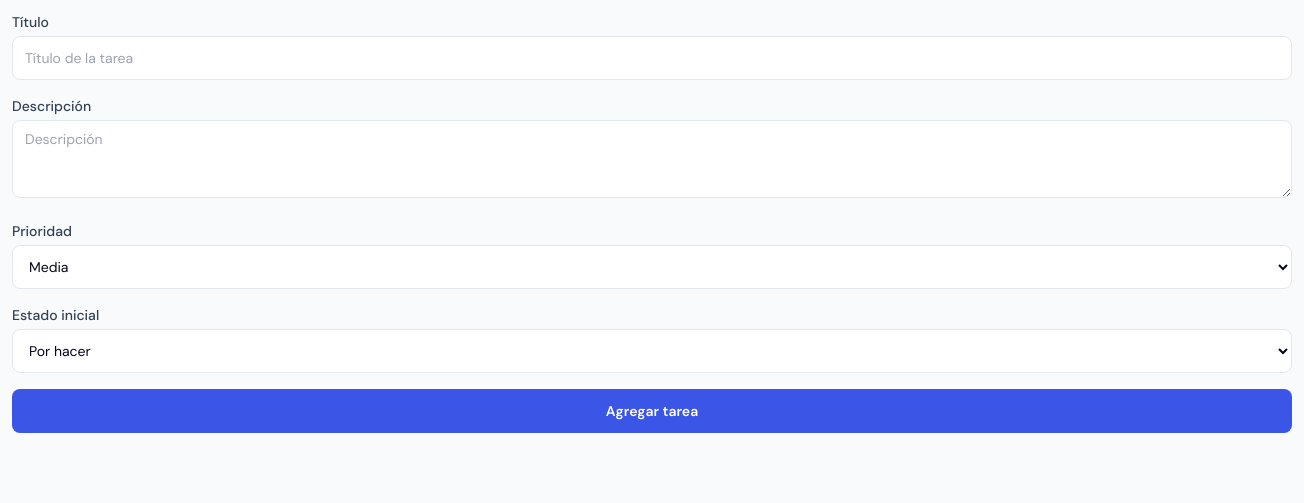
Test: TaskForm component › muestra error si se envía vacío
Step 1. Click the button "Agregar tarea" → x=652, y=411, box top-left (12, 389), bottom-right (1292, 433)
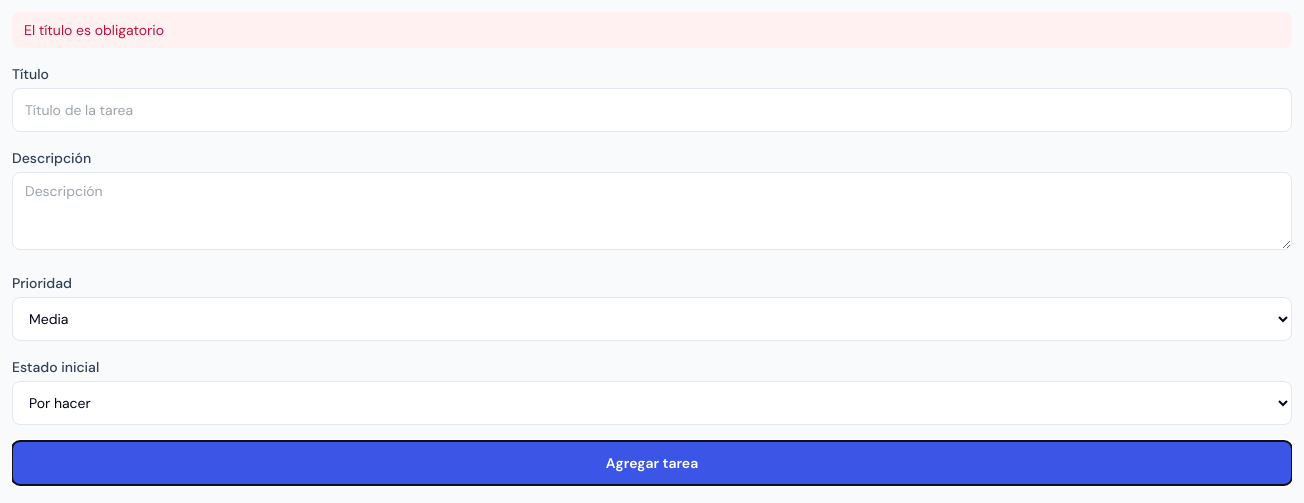
Expected: the message reads "El título es obligatorio", top-left (24, 21), bottom-right (164, 39)
